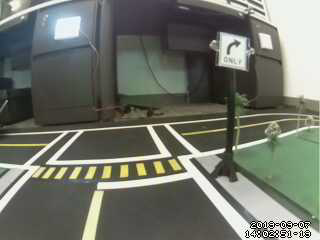Right_only_sign: (214, 27, 253, 75)
